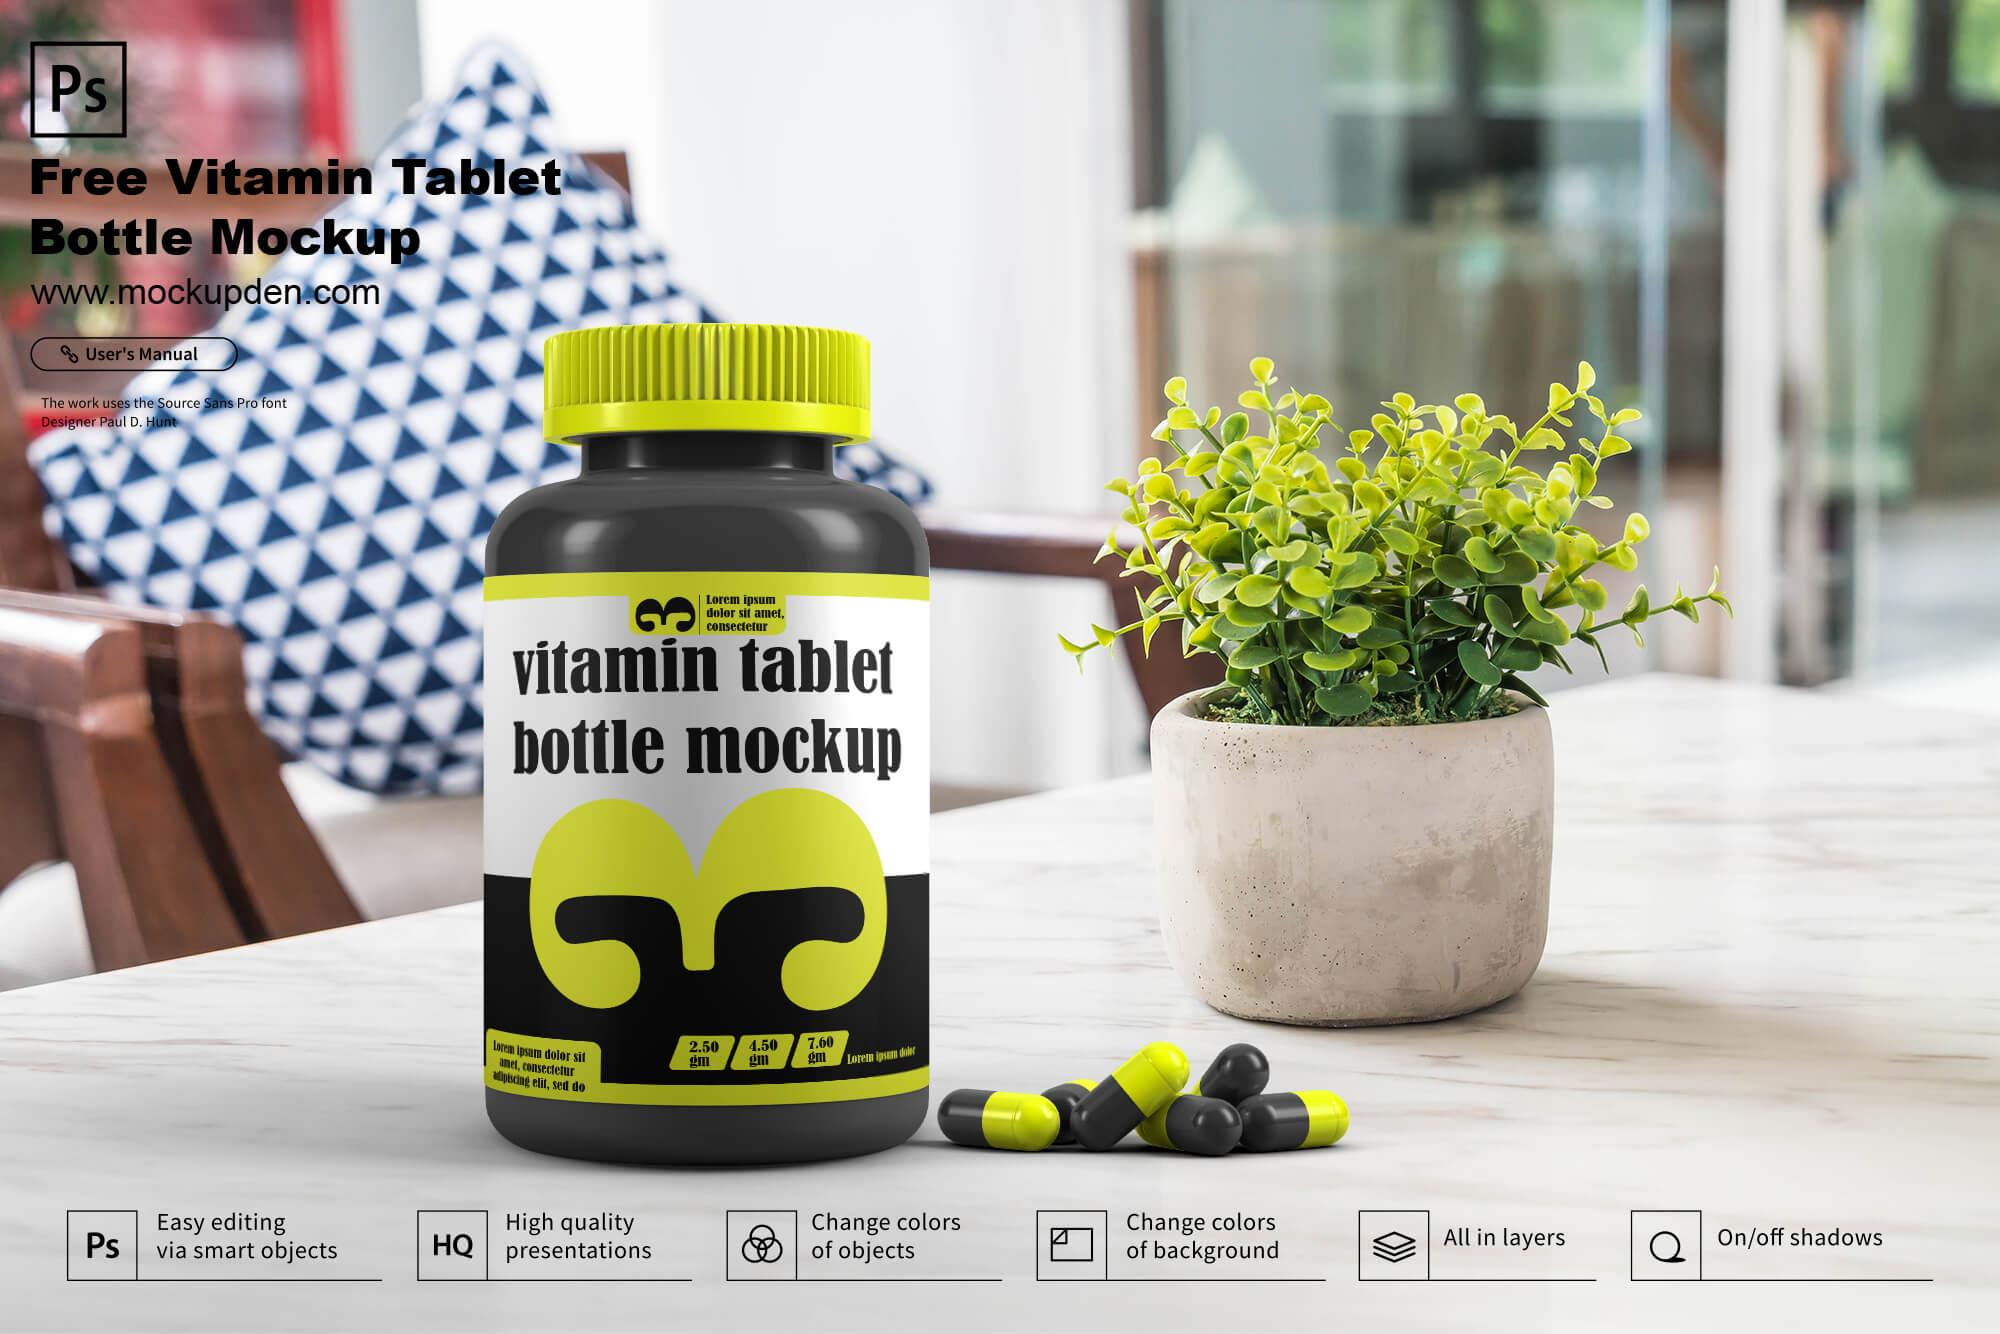jar: (484, 325, 932, 1169)
